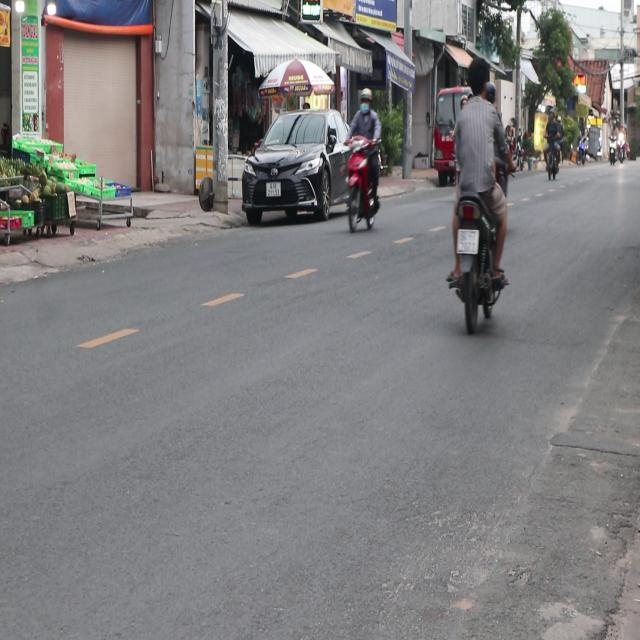helmet: (357, 86, 371, 111)
licenseplate: (443, 55, 511, 331), (342, 85, 382, 233)
motorcyclist: (466, 57, 488, 98)
nohelmet: (457, 228, 478, 253)
